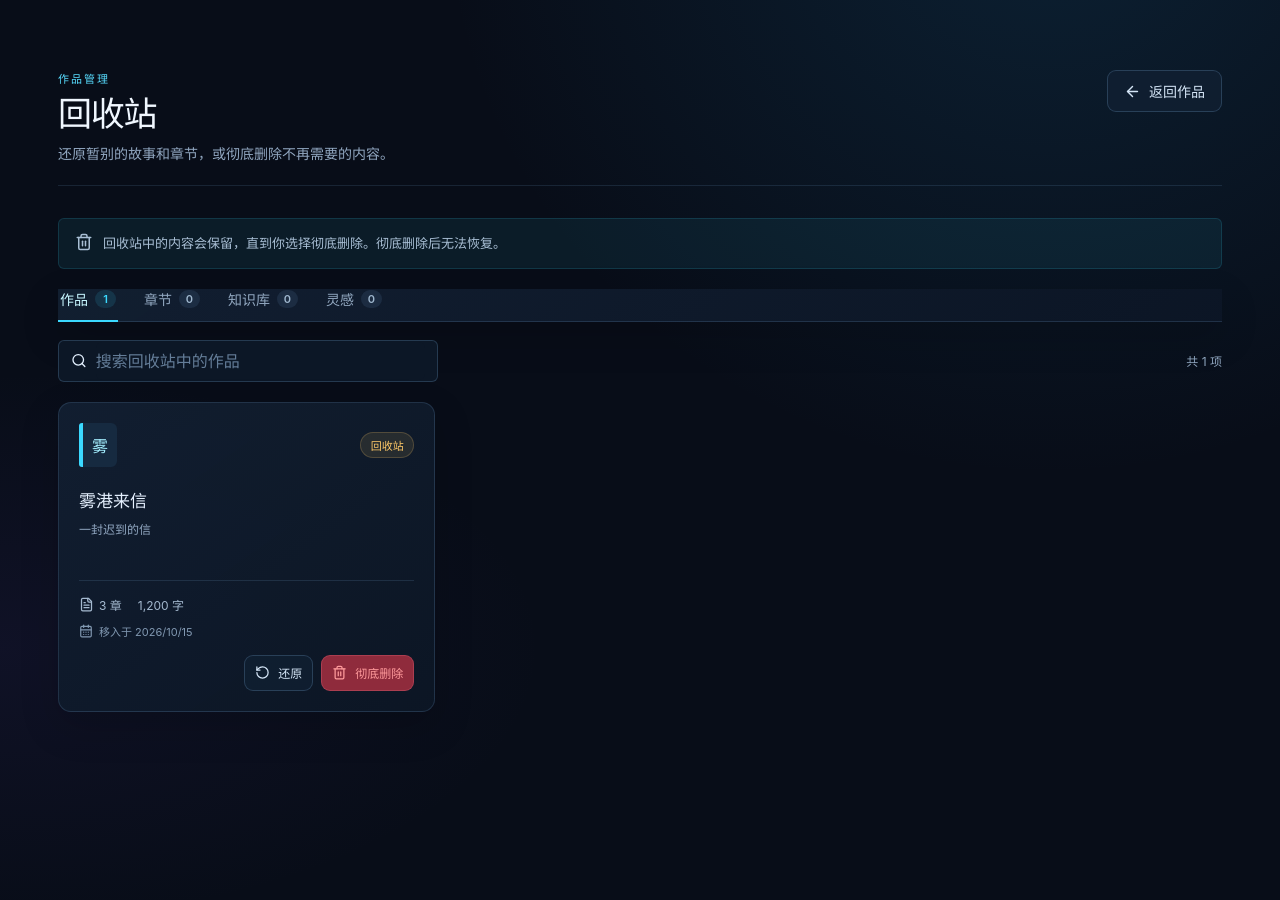
Test: 回收站页面 › 只在操作结果成功后更新界面
Click the button named "彻底删除雾港来信" at (368, 673), box [321, 655, 414, 691]
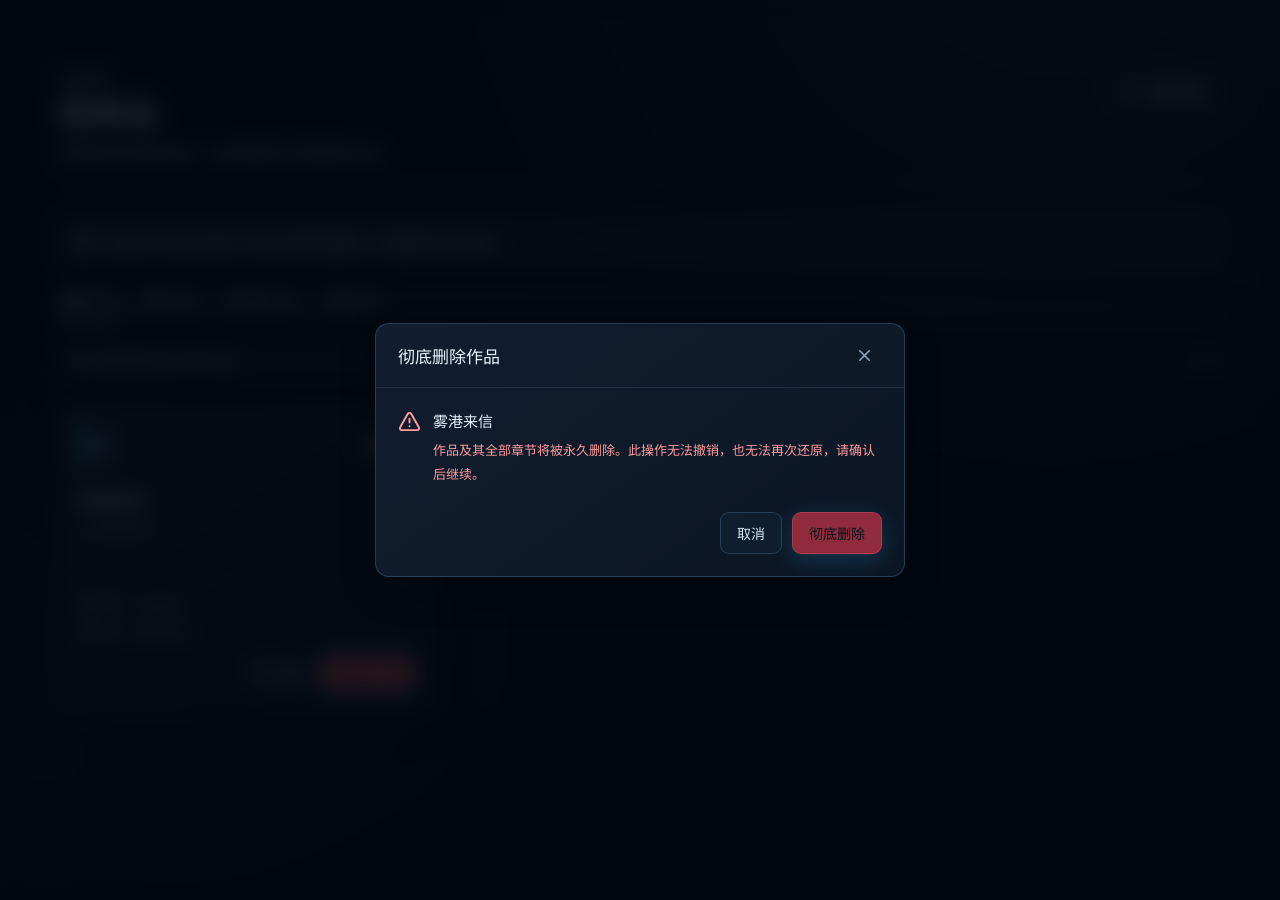
Click the button "彻底删除" at (837, 533), box [792, 512, 882, 554]
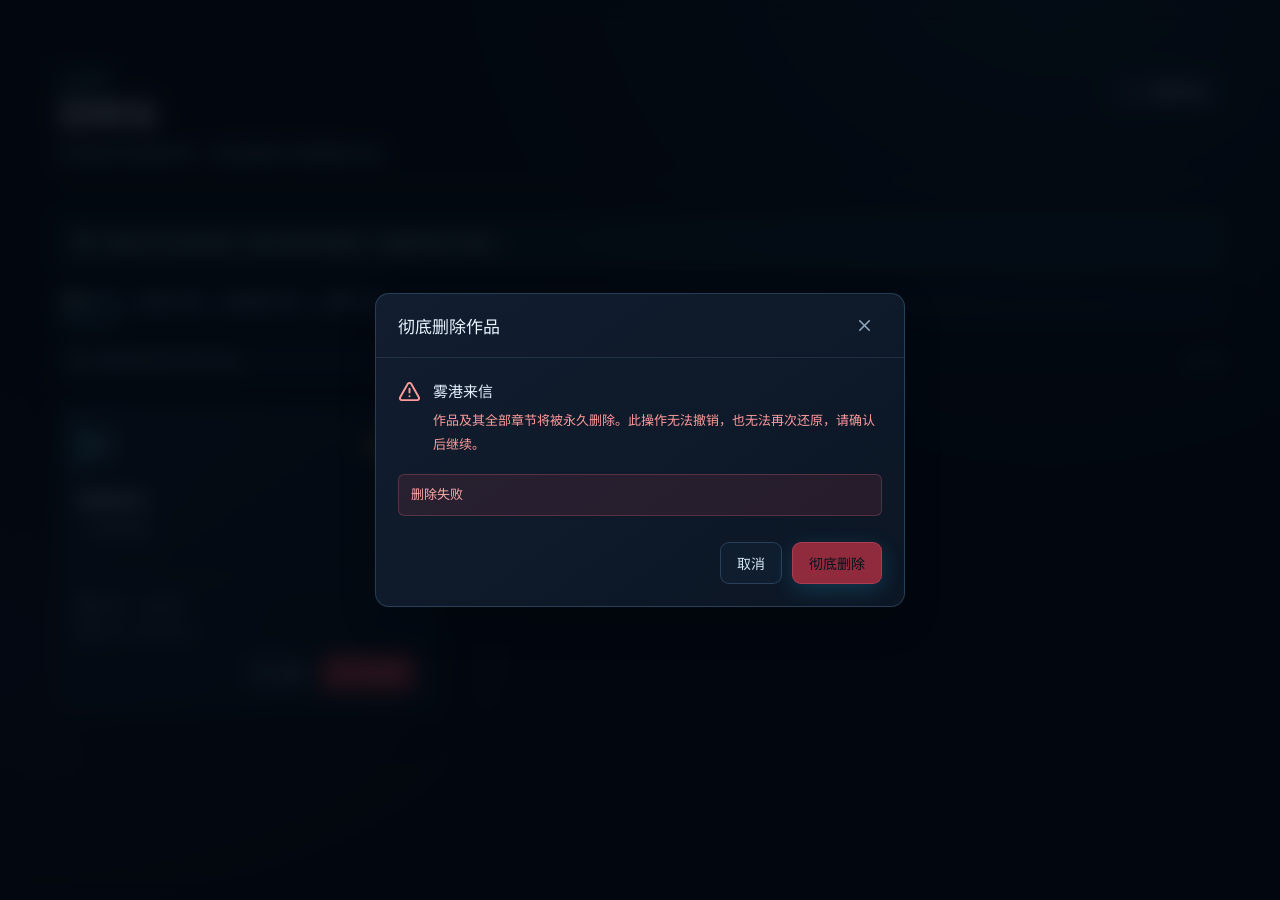
Expected: the message reads "删除失败", [411, 486, 463, 502]
